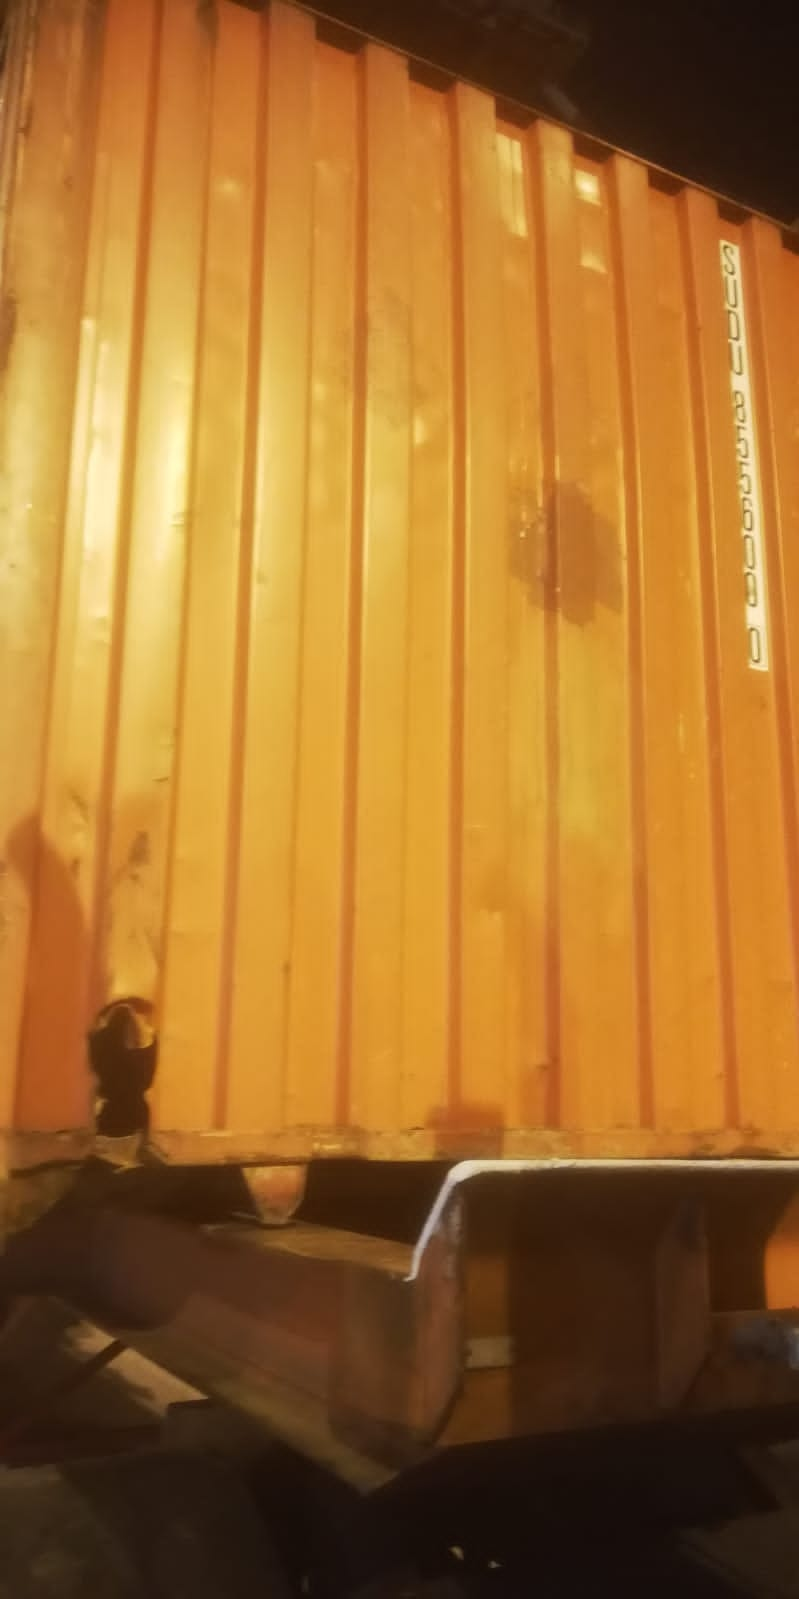severe: (38, 957, 215, 1171)
